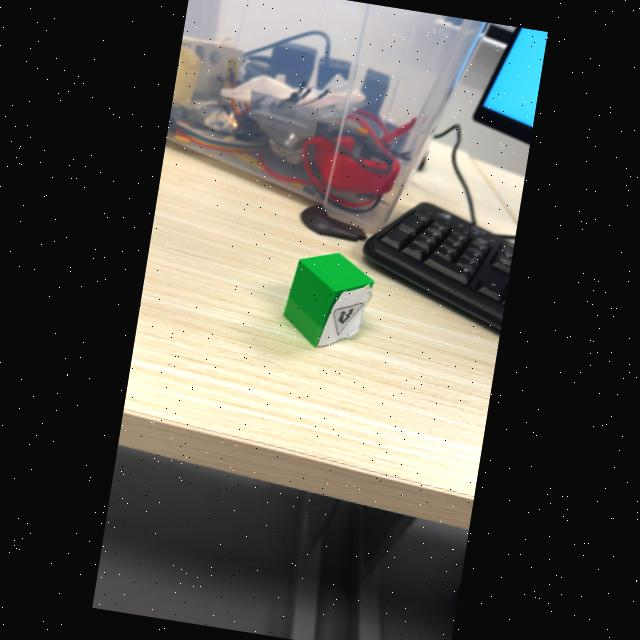Earthquake: (334, 303, 364, 335)
